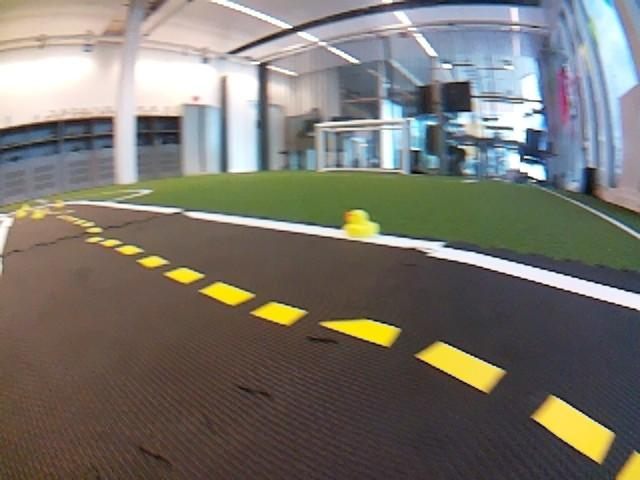Duckies: (344, 210, 380, 237), (32, 208, 48, 219), (14, 207, 28, 217), (55, 200, 65, 208), (22, 203, 30, 209)
